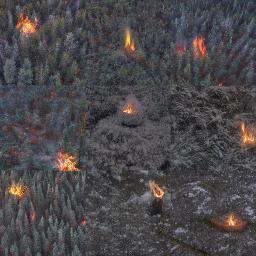Small fire: (177, 35, 209, 58), (16, 13, 39, 38), (119, 28, 141, 53), (54, 152, 81, 172), (6, 180, 29, 199), (221, 210, 244, 229), (145, 180, 166, 200), (239, 123, 256, 145), (122, 101, 136, 116)
